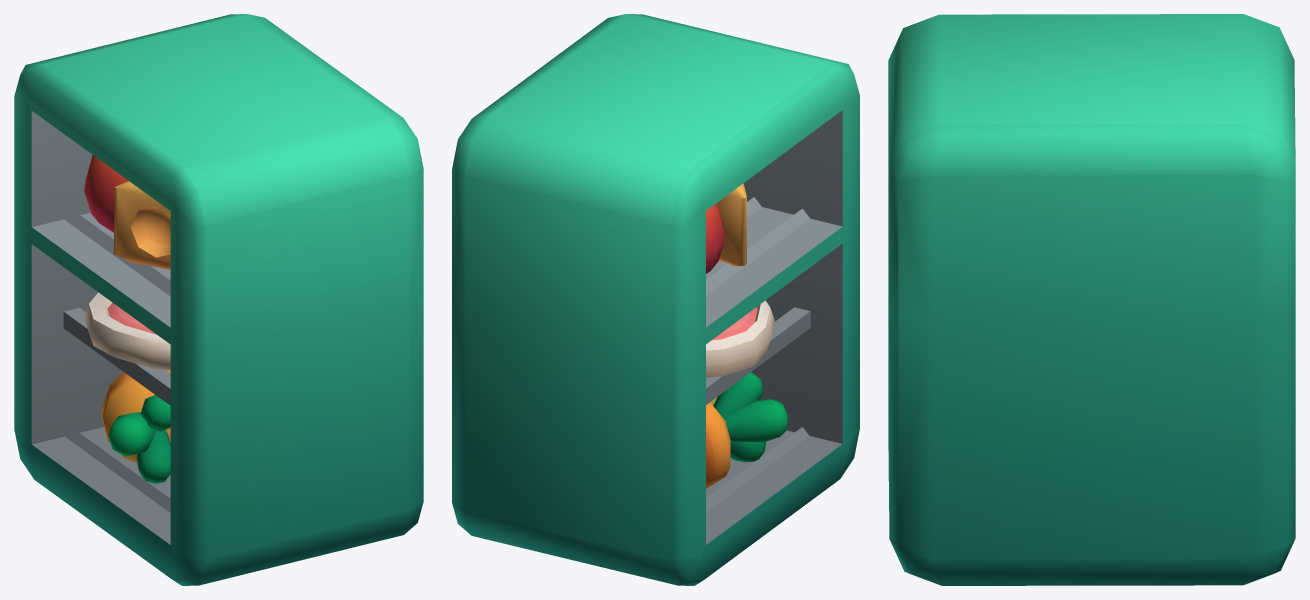
Rendered from Fridge.glb.
The picture shows the model from 3 angles, left to right: view 1: azimuth 30°, elevation 25°; view 2: azimuth 150°, elevation 25°; view 3: azimuth 270°, elevation 25°; orthographic projection. The views are drawn at different scales.
Visible parts, largest first — view 1: fridge_A_decorated; view 2: fridge_A_decorated; view 3: fridge_A_decorated.
Part boxes in pixels (x1=…): fridge_A_decorated: x1=14, y1=14, x2=423, y2=585; fridge_A_decorated: x1=452, y1=14, x2=859, y2=585; fridge_A_decorated: x1=888, y1=14, x2=1295, y2=585.
Size of the model in its own units: 1.16 by 1.92 by 1.54.
1 material, 1 textured.
